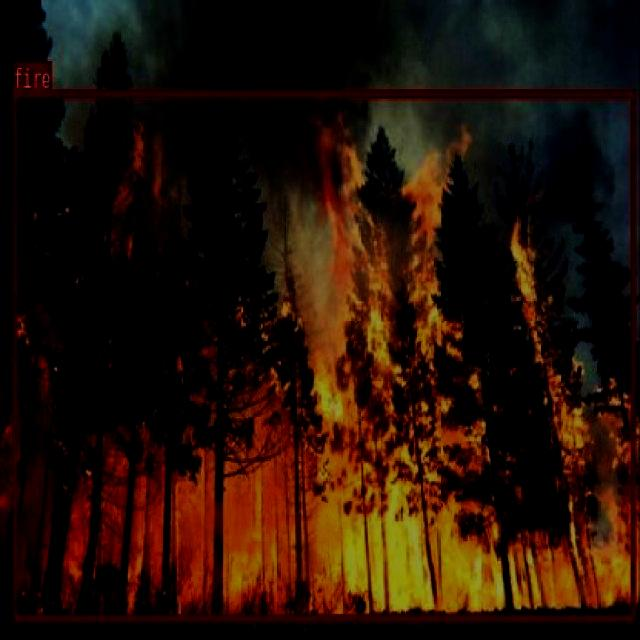fire: (12, 88, 634, 622)
